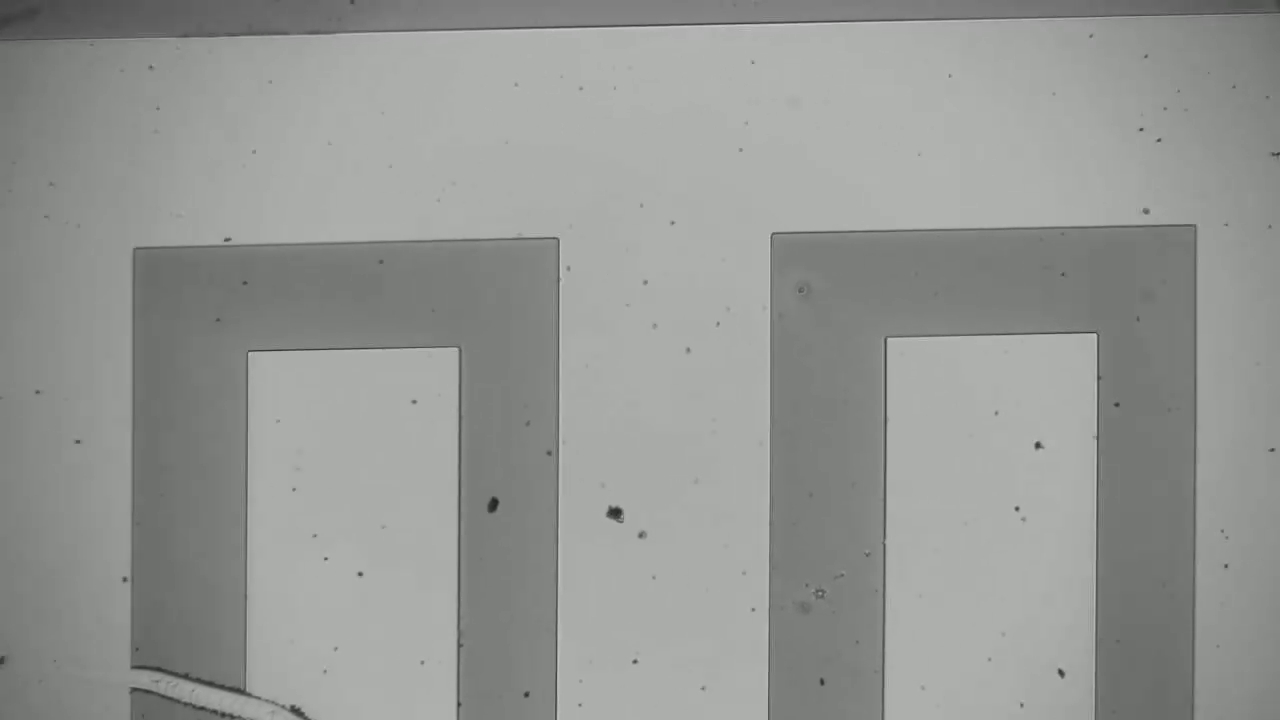Short_circuit: (79, 642, 319, 720)
